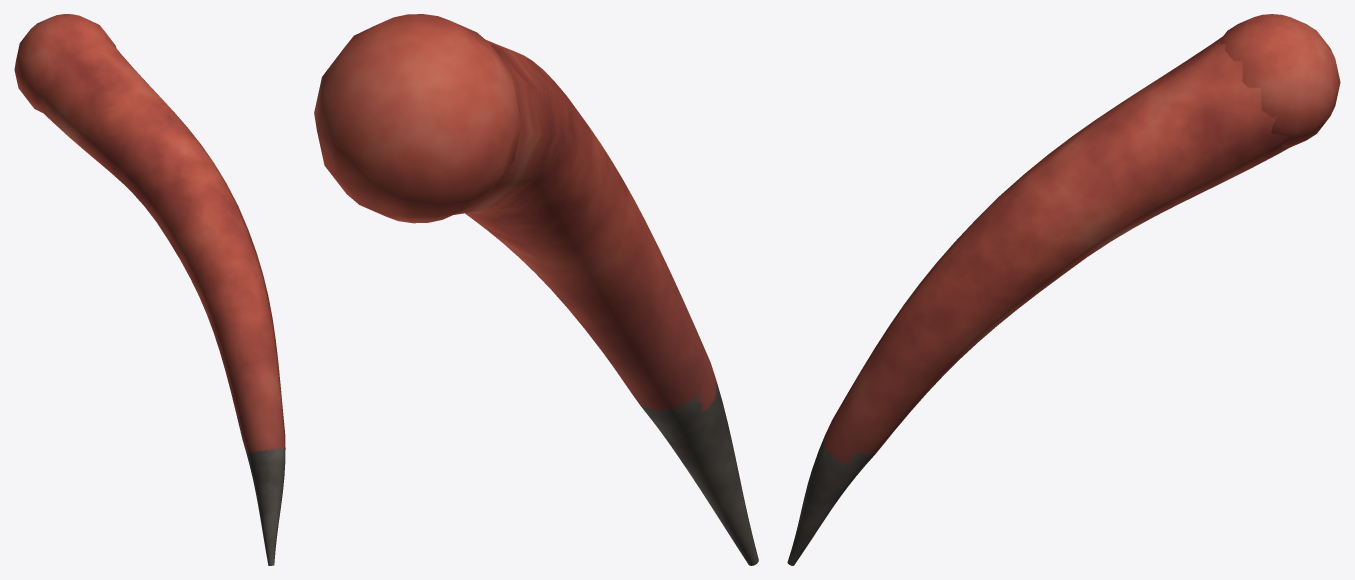
Rendered from headcrab_garra_del_izq.obj.
3 renders of one model, left to right at view 1: azimuth 30°, elevation 25°; view 2: azimuth 150°, elevation 25°; view 3: azimuth 270°, elevation 25°, orthographic. The views are drawn at different scales.
Visible parts, largest first — view 1: garra_del_izq; view 2: garra_del_izq; view 3: garra_del_izq.
Part boxes in pixels (x1,y1,x2,y2): garra_del_izq: (14, 14, 285, 565); garra_del_izq: (314, 14, 758, 565); garra_del_izq: (787, 14, 1340, 565).
Bounding box in the file's own units: 0.0718 × 0.2326 × 0.2184.
